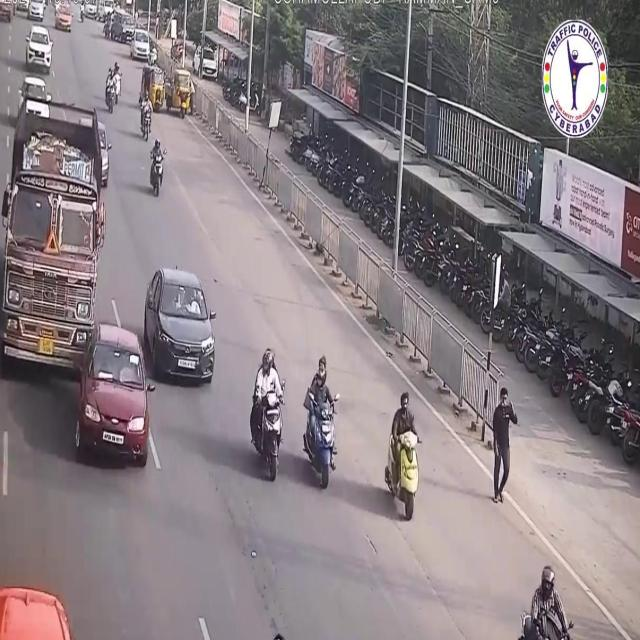accident: (0, 88, 156, 476)
non_accident: (106, 7, 160, 63), (102, 61, 125, 115)
